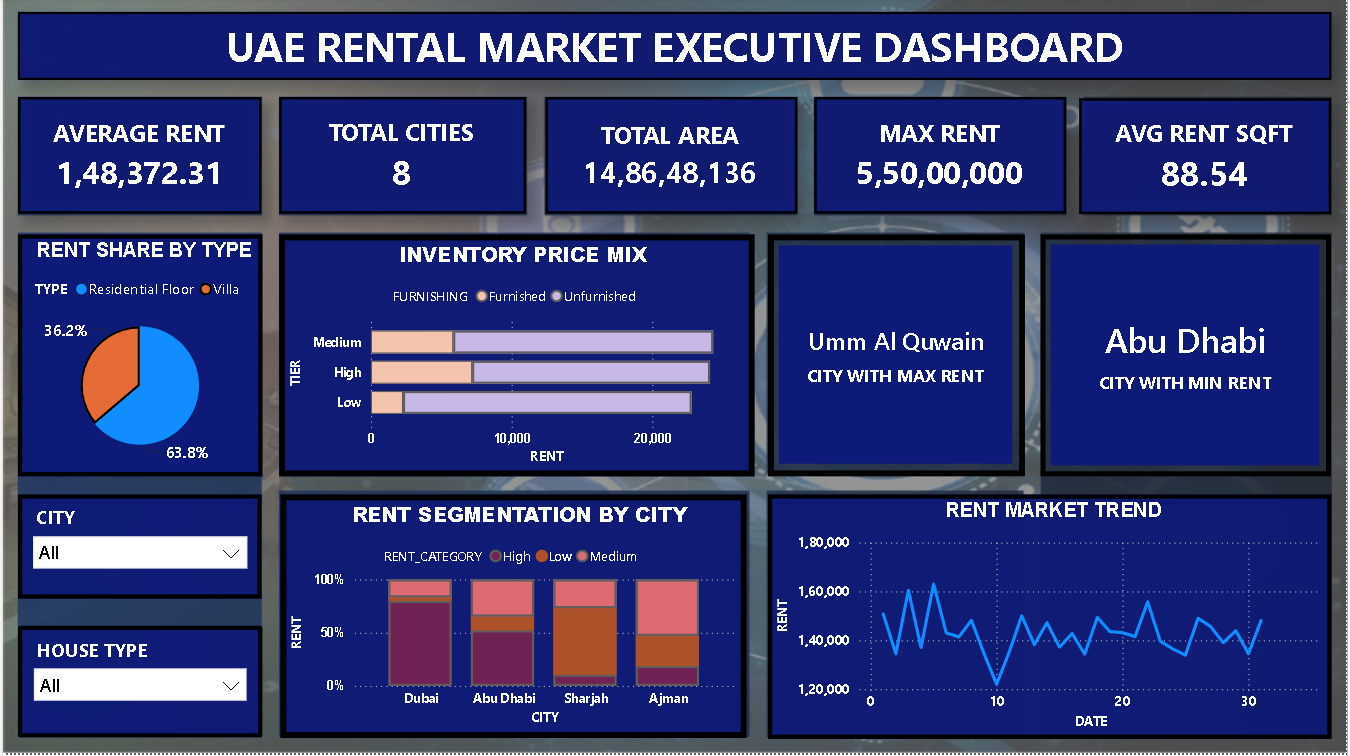

The page's visual inventory and layout, read from the dashboard file:
{"tool":"powerbi","page":{"name":"Page 1","canvas":[1280,720],"ordinal":0},"visuals":[{"type":"image","box":[0,0,1280,720.3],"z":0},{"type":"shape","box":[14.4,14.4,1251.2,64.7],"z":1000},{"type":"cardVisual","fields":{"Data":["Avg(UAE RENTAL ANALYSIS.RENT)"]},"box":[14.4,95.2,232.3,111.1],"z":2000},{"type":"cardVisual","fields":{"Data":["Count(UAE RENTAL ANALYSIS.CITY)"]},"box":[263.7,94.7,234.9,111.5],"z":3000},{"type":"cardVisual","fields":{"Data":["Sum(UAE RENTAL ANALYSIS.AREA IN SQFT)"]},"box":[516.6,94.7,239.7,111.5],"z":4000},{"type":"cardVisual","fields":{"Data":["UAE RENTAL ANALYSIS.MAX RENT"]},"box":[773,94.7,239.7,111.5],"z":5000},{"type":"cardVisual","fields":{"Data":["Avg(UAE RENTAL ANALYSIS.RENT PER SQFT)"]},"box":[1025.9,95.9,239.7,110.3],"z":6000},{"type":"slicer","fields":{"Values":["UAE RENTAL ANALYSIS.CITY"]},"box":[14.3,474,232.2,98.8],"z":7000},{"type":"slicer","fields":{"Values":["UAE RENTAL ANALYSIS.HOUSE TYPE"]},"box":[14.3,599,232.5,97.1],"z":8000},{"type":"hundredPercentStackedColumnChart","title":"RENT SEGMENTATION BY CITY","fields":{"Category":["UAE RENTAL ANALYSIS.CITY"],"Series":["UAE RENTAL ANALYSIS.RENT_CATEGORY"],"Y":["Sum(UAE RENTAL ANALYSIS.RENT)"]},"box":[264.6,473.7,444.3,231.8],"z":9000},{"type":"pieChart","title":"RENT  SHARE BY TYPE","fields":{"Y":["Avg(UAE RENTAL ANALYSIS.AREA IN SQFT)"],"Category":["UAE RENTAL ANALYSIS.HOUSE TYPE"]},"box":[14.4,226.5,232.5,230.1],"z":10000},{"type":"barChart","title":"INVENTORY PRICE MIX","fields":{"Category":["UAE RENTAL ANALYSIS.RENT_CATEGORY"],"Y":["CountNonNull(UAE RENTAL ANALYSIS.ADDRESS)"],"Series":["UAE RENTAL ANALYSIS.FURNISHING"]},"box":[263.7,226.5,453,230.1],"z":11000},{"type":"lineChart","title":"RENT MARKET TREND","fields":{"Y":["Avg(UAE RENTAL ANALYSIS.RENT)"],"Category":["UAE RENTAL ANALYSIS.DATE.Variation.Date Hierarchy.Day"]},"box":[728.7,473.4,536.9,232.5],"z":12000},{"type":"cardVisual","fields":{"Data":["UAE RENTAL ANALYSIS.MIN RENT (CITY)"]},"box":[988.8,226.5,276.9,230.1],"z":13000},{"type":"cardVisual","fields":{"Data":["UAE RENTAL ANALYSIS.CITY WITH MAX RENT"]},"box":[728.7,226.5,244.5,230.1],"z":14000}]}

Visuals, with their boxes in screenshot pixels (x1, y1, x2, y2), scaled from the page's 1280x720 canvas onto the 1350x756 screenshot:
image: select_region(0, 0, 1349, 755)
shape: select_region(15, 15, 1335, 83)
cardVisual - Avg(UAE RENTAL ANALYSIS.RENT): select_region(15, 100, 260, 217)
cardVisual - Count(UAE RENTAL ANALYSIS.CITY): select_region(278, 99, 526, 217)
cardVisual - Sum(UAE RENTAL ANALYSIS.AREA IN SQFT): select_region(545, 99, 798, 217)
cardVisual - UAE RENTAL ANALYSIS.MAX RENT: select_region(815, 99, 1068, 217)
cardVisual - Avg(UAE RENTAL ANALYSIS.RENT PER SQFT): select_region(1082, 101, 1335, 217)
slicer - UAE RENTAL ANALYSIS.CITY: select_region(15, 498, 260, 601)
slicer - UAE RENTAL ANALYSIS.HOUSE TYPE: select_region(15, 629, 260, 731)
"RENT SEGMENTATION BY CITY" hundredPercentStackedColumnChart: select_region(279, 497, 748, 741)
"RENT  SHARE BY TYPE" pieChart: select_region(15, 238, 260, 479)
"INVENTORY PRICE MIX" barChart: select_region(278, 238, 756, 479)
"RENT MARKET TREND" lineChart: select_region(769, 497, 1335, 741)
cardVisual - UAE RENTAL ANALYSIS.MIN RENT (CITY): select_region(1043, 238, 1335, 479)
cardVisual - UAE RENTAL ANALYSIS.CITY WITH MAX RENT: select_region(769, 238, 1026, 479)
